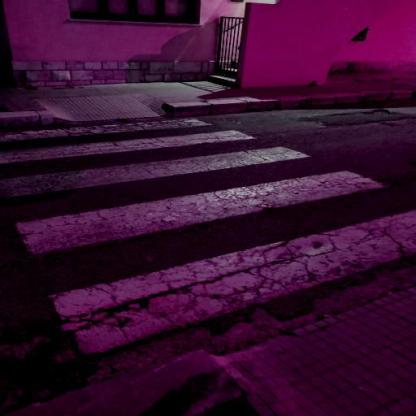crosswalk: (6, 169, 416, 361)
